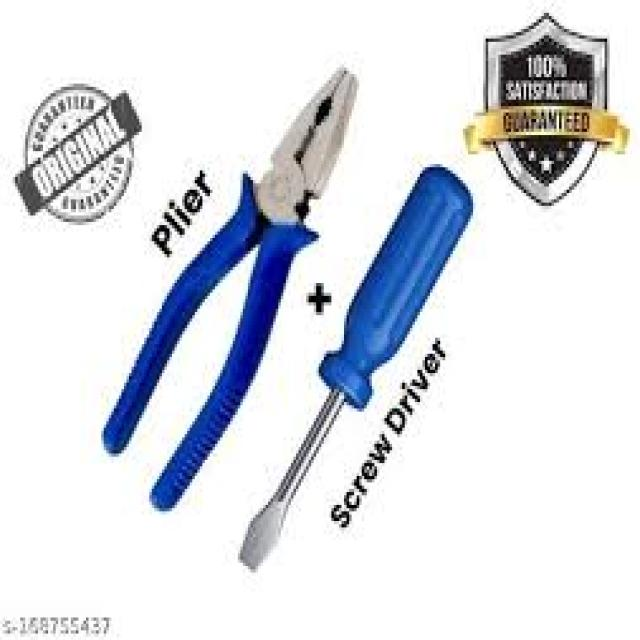Screwdriver: (240, 168, 472, 568)
